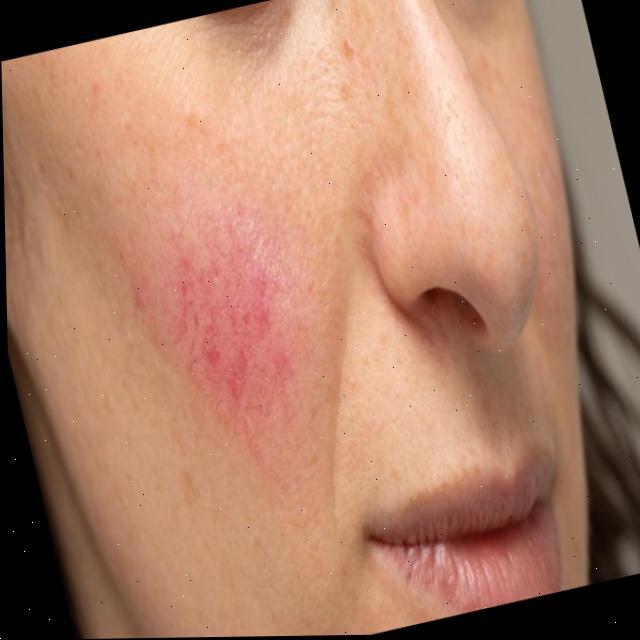Rosacea: (153, 227, 302, 435)
